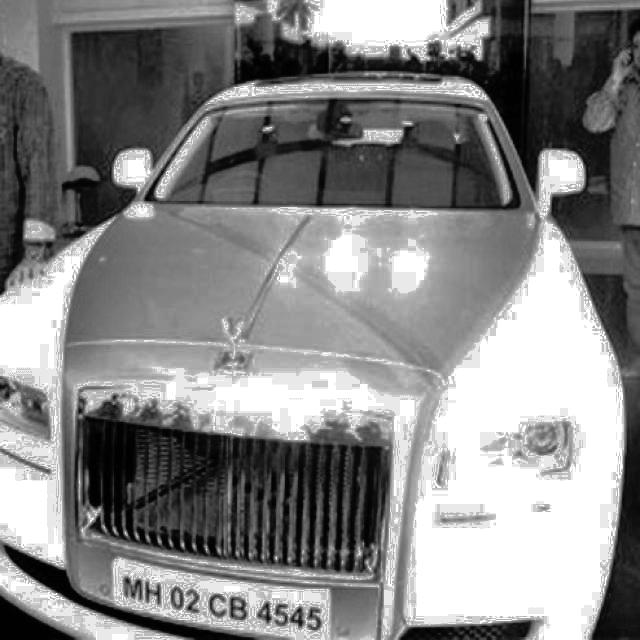Car: (9, 70, 640, 640)
